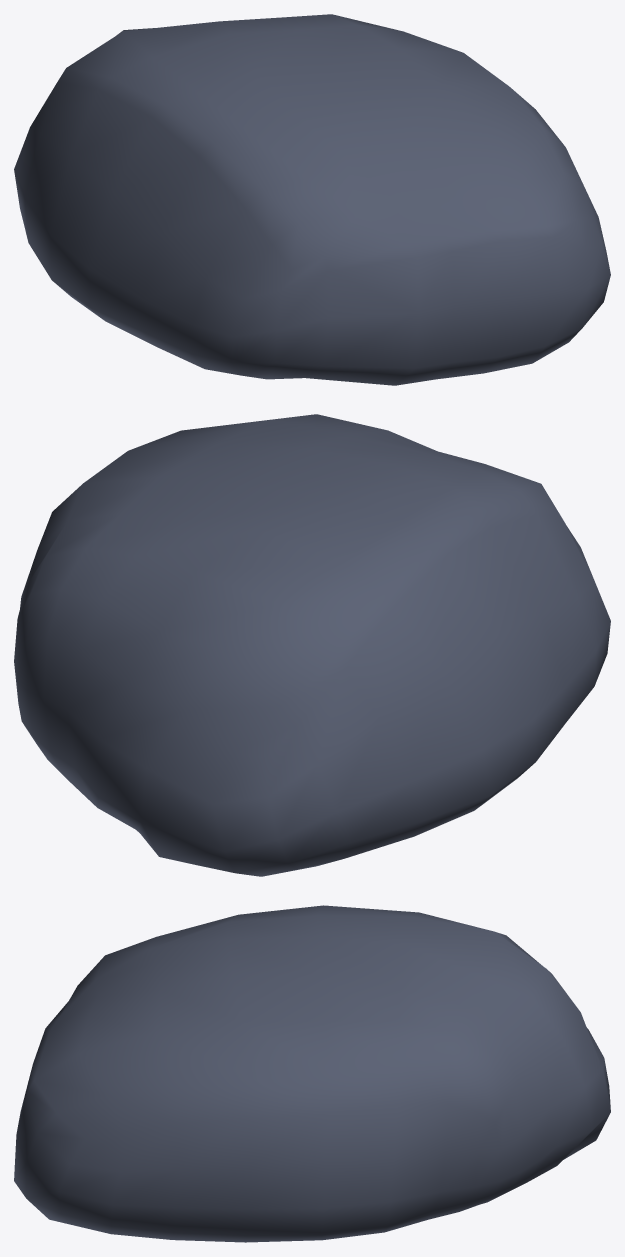
Rendered from Stone02.FBX.
The picture shows the model from 3 angles, top to bottom: view 1: azimuth 30°, elevation 25°; view 2: azimuth 150°, elevation 25°; view 3: azimuth 270°, elevation 25°; orthographic projection. The views are drawn at different scales.
Parts seen in each view (by area): view 1: StoneMedium; view 2: StoneMedium; view 3: StoneMedium.
Boxes of the visible parts, x1,y1,x2,y2 form: StoneMedium: (14, 14, 610, 385); StoneMedium: (14, 414, 610, 876); StoneMedium: (14, 905, 610, 1242).
Size of the model in its own units: 82.32 by 41.96 by 102.
